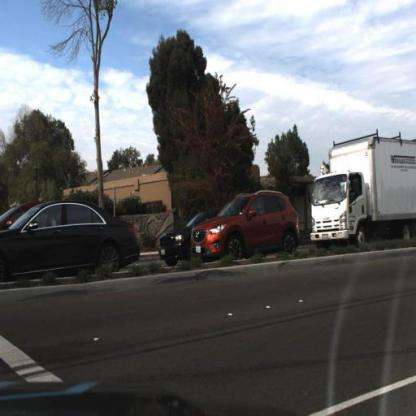car: (1, 202, 143, 279), (185, 181, 301, 269), (156, 207, 194, 275)
truck: (302, 114, 416, 263)
